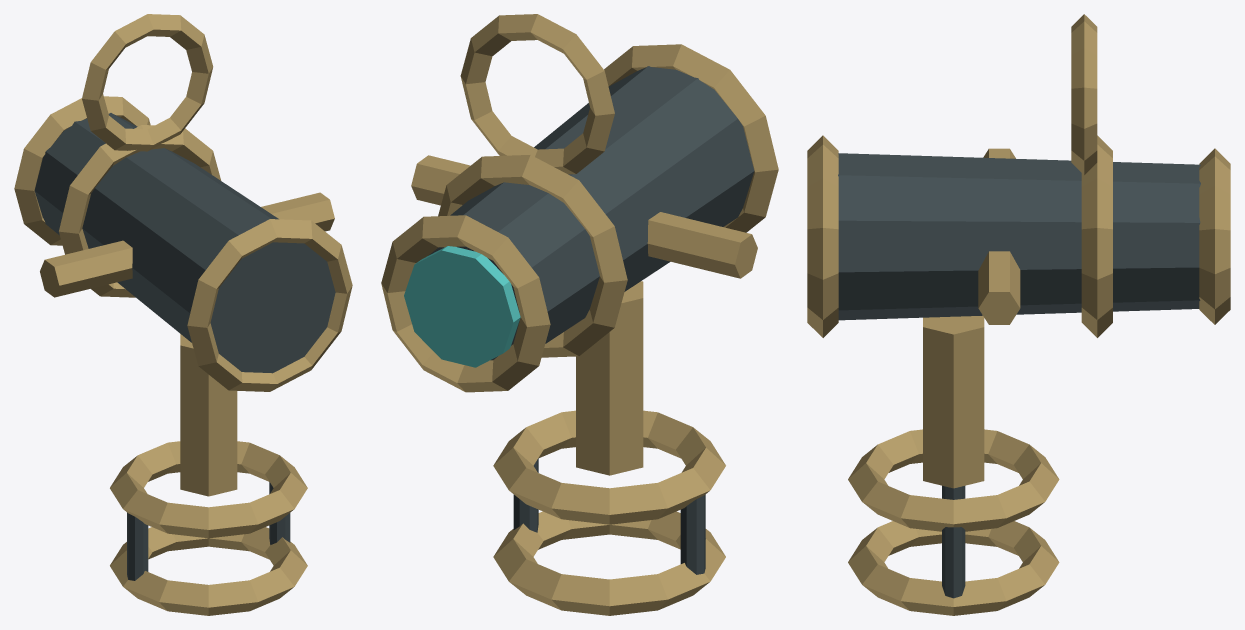
File: Equip_FarSight.fbx
3 views of the same model, side by side, from view 1: azimuth 30°, elevation 25°; view 2: azimuth 150°, elevation 25°; view 3: azimuth 270°, elevation 25° (orthographic). The views are drawn at different scales.
Parts seen in each view (by area): view 1: Equip_FarSight; view 2: Equip_FarSight; view 3: Equip_FarSight.
Part boxes in pixels (box(x1,y1,x2,y2)): Equip_FarSight: box(14, 14, 352, 615); Equip_FarSight: box(381, 14, 778, 615); Equip_FarSight: box(807, 14, 1230, 615).
Bounding box in the file's own units: 0.26 × 0.471 × 0.324.
